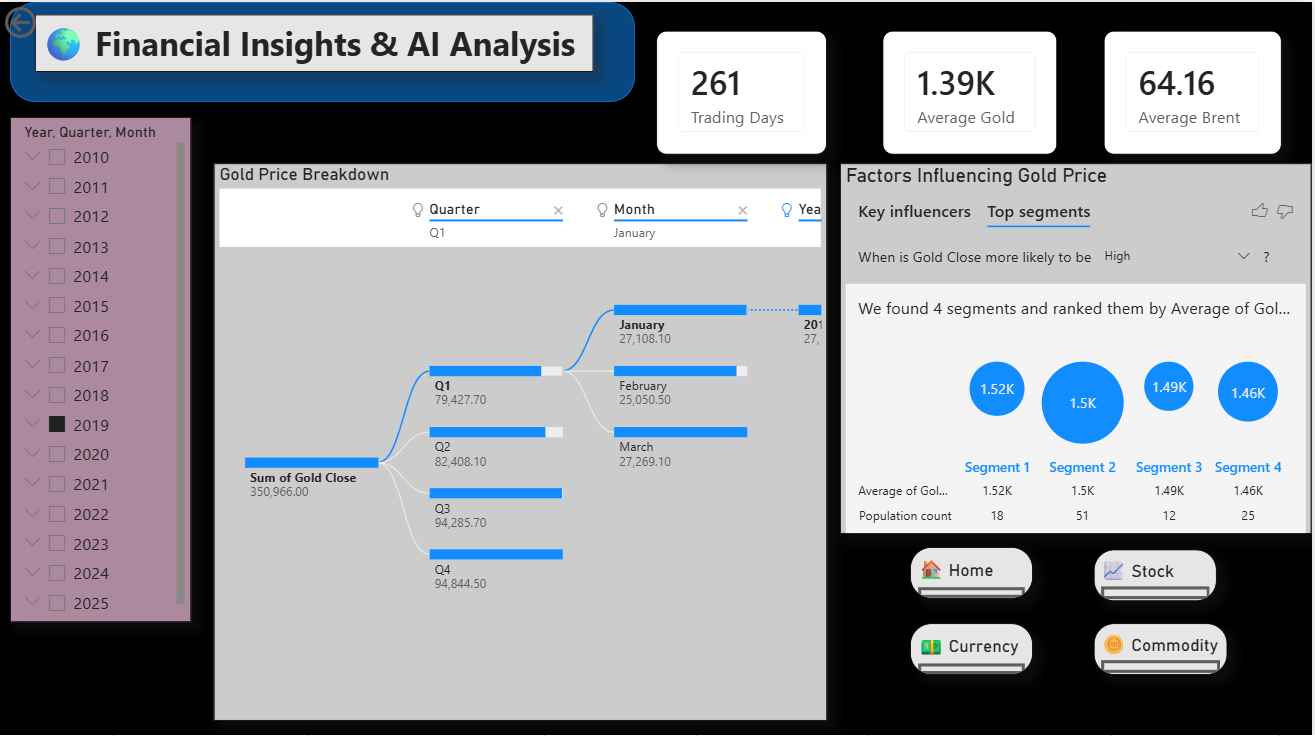

The page's visual inventory and layout, read from the dashboard file:
{"tool":"powerbi","page":{"name":"Financial Insights","canvas":[1280,720],"ordinal":6},"visuals":[{"type":"shape","box":[9.8,0,609.8,97.6],"z":0},{"type":"textbox","box":[34.8,12.4,544.9,55.9],"z":1000},{"type":"decompositionTreeVisual","title":"Gold Price Breakdown","fields":{"ExplainBy":["Date Table.Quarter","Date Table.Month","Date Table.Year"],"Analyze":["Sum(daily_market_data.Gold Close)"]},"box":[208.2,157.6,598.7,543.7],"z":2000},{"type":"actionButton","box":[0,0,100,40],"z":3000},{"type":"cardVisual","fields":{"Data":["Date Table.Trading Days"]},"box":[640.5,28.5,166.3,120.4],"z":4000},{"type":"cardVisual","fields":{"Data":["Measures Table.Average Gold"]},"box":[861.5,28.5,170.1,120.4],"z":5000},{"type":"cardVisual","fields":{"Data":["Measures Table.Average Brent"]},"box":[1077.4,28.5,173.8,120.4],"z":6000},{"type":"keyDriversVisual","title":"Factors Influencing Gold Price","fields":{"Target":["daily_market_data.Gold Close"],"ExplainBy":["Sum(daily_market_data.Brent Close)","Sum(daily_market_data.NIFTY50 Close)","Sum(daily_market_data.S&P500 Close)","Sum(daily_market_data.USD/INR Close)"]},"box":[819.9,157.6,459.8,361.5],"z":7000},{"type":"actionButton","title":"💵 Currency","box":[887.9,605.9,120,50.6],"z":8000},{"type":"actionButton","title":"🪙 Commodity","box":[1067.2,605.9,130.1,50.6],"z":9000},{"type":"actionButton","title":"📈 Stock","box":[1067.2,533.6,120,50.6],"z":10000},{"type":"actionButton","title":"🏠 Home","box":[887.9,532.1,120,50.6],"z":11000},{"type":"slicer","fields":{"Values":["Date Table.Year","Date Table.Quarter","Date Table.Month"]},"box":[10.1,112.8,176.4,493.1],"z":12000}]}

Visuals, with their boxes in screenshot pixels (x1, y1, x2, y2):
shape: locate(13, 0, 628, 98)
textbox: locate(39, 13, 588, 69)
"Gold Price Breakdown" decompositionTreeVisual: locate(213, 159, 817, 707)
actionButton: locate(3, 0, 104, 40)
cardVisual - Date Table.Trading Days: locate(649, 29, 817, 150)
cardVisual - Measures Table.Average Gold: locate(872, 29, 1044, 150)
cardVisual - Measures Table.Average Brent: locate(1090, 29, 1265, 150)
"Factors Influencing Gold Price" keyDriversVisual: locate(830, 159, 1294, 523)
"💵 Currency" actionButton: locate(899, 611, 1020, 662)
"🪙 Commodity" actionButton: locate(1080, 611, 1211, 662)
"📈 Stock" actionButton: locate(1080, 538, 1201, 589)
"🏠 Home" actionButton: locate(899, 537, 1020, 588)
slicer - Date Table.Year x Date Table.Quarter: locate(14, 114, 191, 611)
